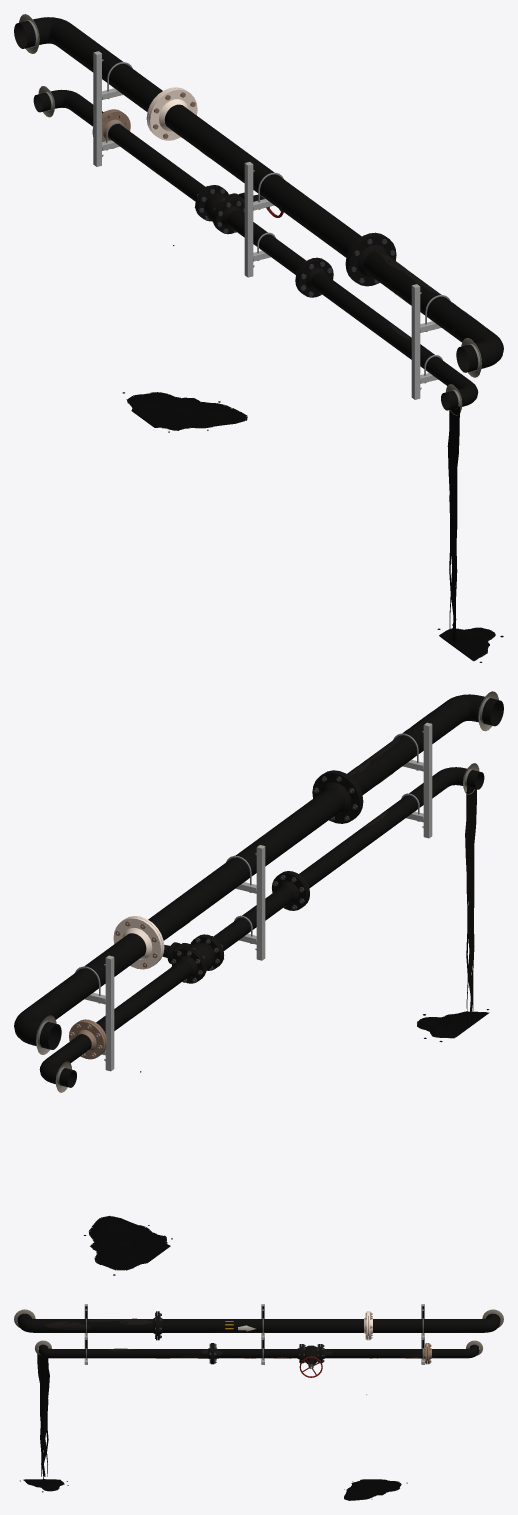
The model's file is pipe_black.glb.
The picture shows the model from 3 angles, top to bottom: view 1: azimuth 30°, elevation 25°; view 2: azimuth 150°, elevation 25°; view 3: azimuth 270°, elevation 25°; orthographic projection. The views are drawn at different scales.
Parts seen in each view (by area): view 1: teil, teil.010, teil.014, teil.003, teil.016, teil.006, teil.007, teil.001; view 2: teil, teil.010, teil.014, teil.003, teil.016, teil.006, teil.007, teil.001, teil.005; view 3: teil, teil.014, teil.013, teil.003, teil.016, teil.001, teil.010, teil.007, teil.005.
Part boxes in pixels (bbox=[...]): teil: bbox=[14, 17, 503, 410]; teil.010: bbox=[93, 51, 441, 399]; teil.014: bbox=[122, 245, 503, 662]; teil.003: bbox=[195, 185, 396, 297]; teil.016: bbox=[126, 392, 495, 660]; teil.006: bbox=[110, 87, 431, 373]; teil.007: bbox=[92, 92, 411, 305]; teil.001: bbox=[19, 14, 481, 415]; teil: bbox=[14, 694, 503, 1087]; teil.010: bbox=[84, 722, 432, 1071]; teil.014: bbox=[84, 792, 489, 1275]; teil.003: bbox=[162, 770, 363, 983]; teil.016: bbox=[88, 785, 487, 1270]; teil.006: bbox=[92, 810, 416, 1018]; teil.007: bbox=[69, 773, 393, 1059]; teil.001: bbox=[36, 691, 498, 1092]; teil.005: bbox=[171, 776, 357, 982]; teil: bbox=[17, 1313, 500, 1358]; teil.014: bbox=[20, 1355, 407, 1500]; teil.013: bbox=[45, 1318, 478, 1358]; teil.003: bbox=[153, 1311, 324, 1365]; teil.016: bbox=[23, 1354, 401, 1500]; teil.001: bbox=[14, 1309, 503, 1355]; teil.010: bbox=[84, 1304, 424, 1364]; teil.007: bbox=[156, 1312, 431, 1364]; teil.005: bbox=[155, 1312, 324, 1368].
Size of the model in its own units: 0.6619 by 2.3 by 5.82.
